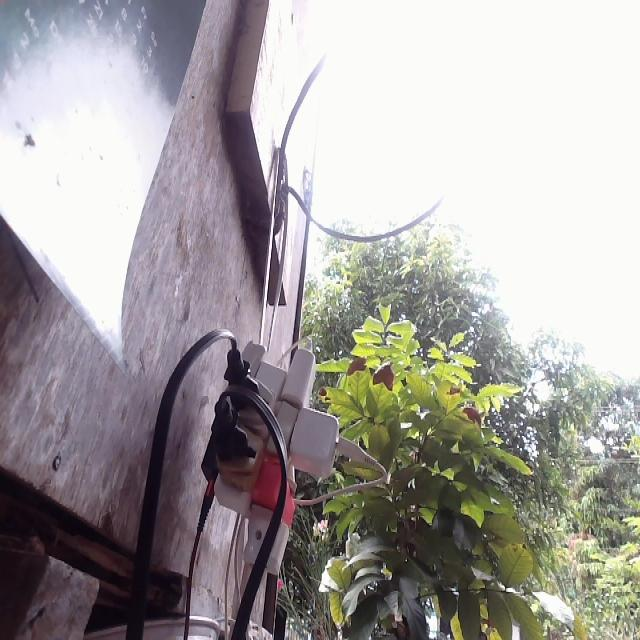-: (201, 328, 363, 572)
